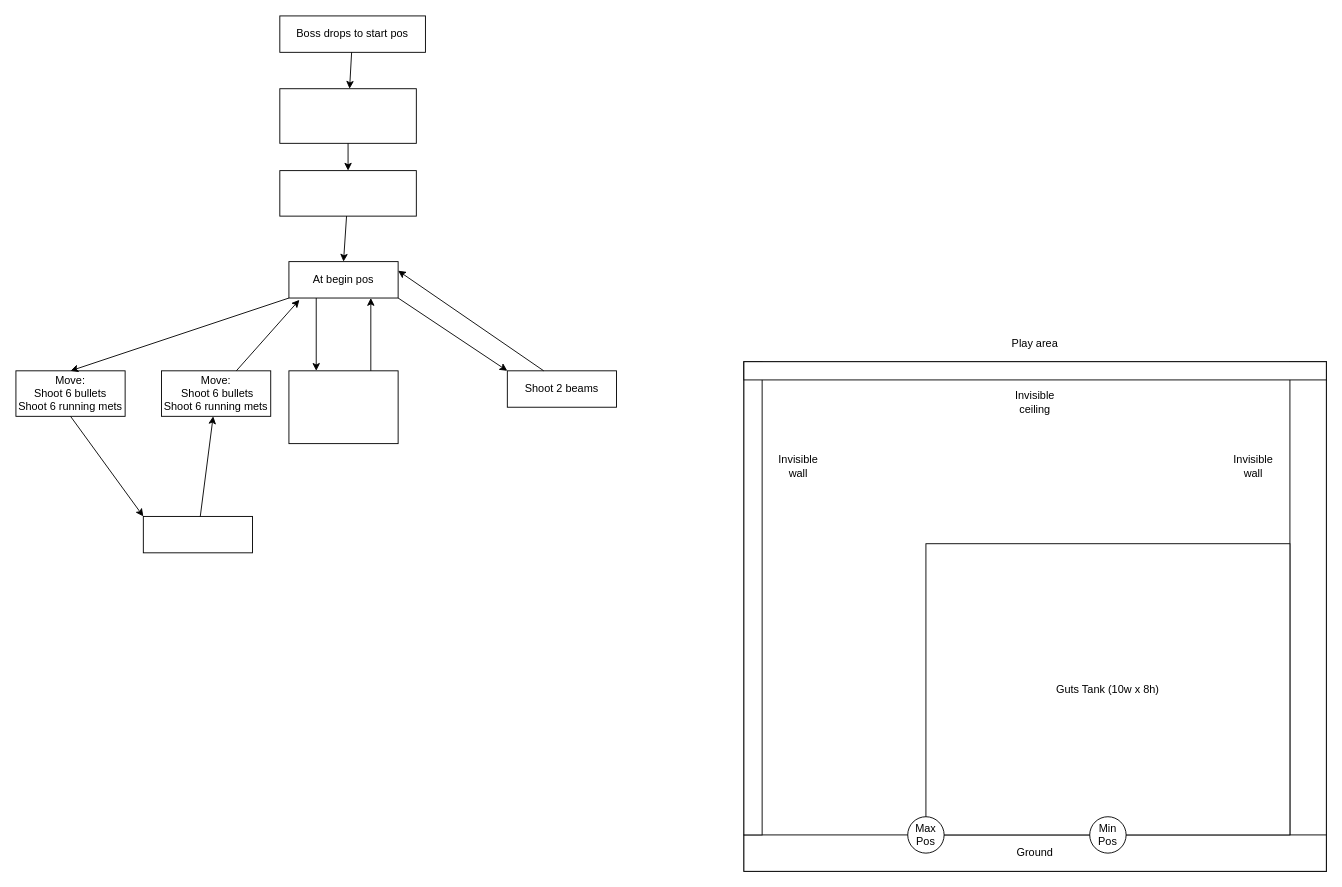
Some shapes in this 1342 by 887 pixel diagram are drawn without their labels. Here are the shapes that lost their labels. From the top down, the centre of each, then its label:
At point (347, 115): "Cam shakes for x seconds".
At point (347, 193): "Boss health fills".
At point (343, 407): "Shoot 4 mets: 2 lay on ground, 2 fly in air".
At point (197, 534): "Shoot 3 bullets".
